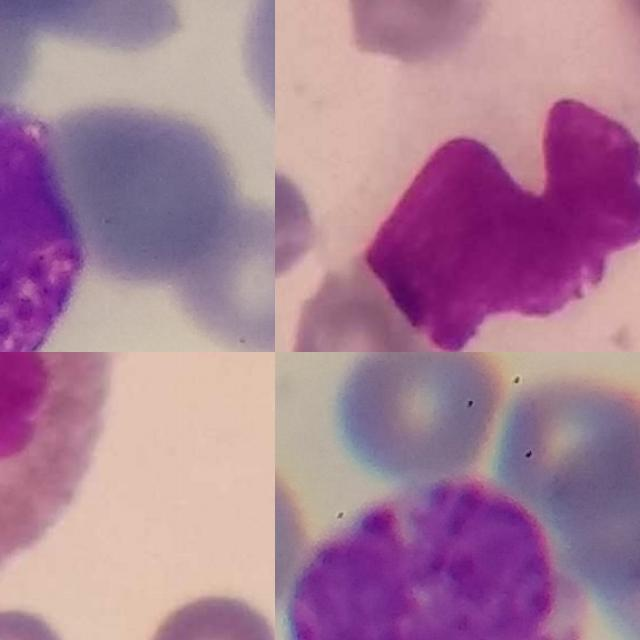Basophil: (287, 475, 589, 640), (0, 96, 82, 352)
Eosinophil: (0, 352, 114, 578)
Monocyte: (370, 0, 640, 352)
